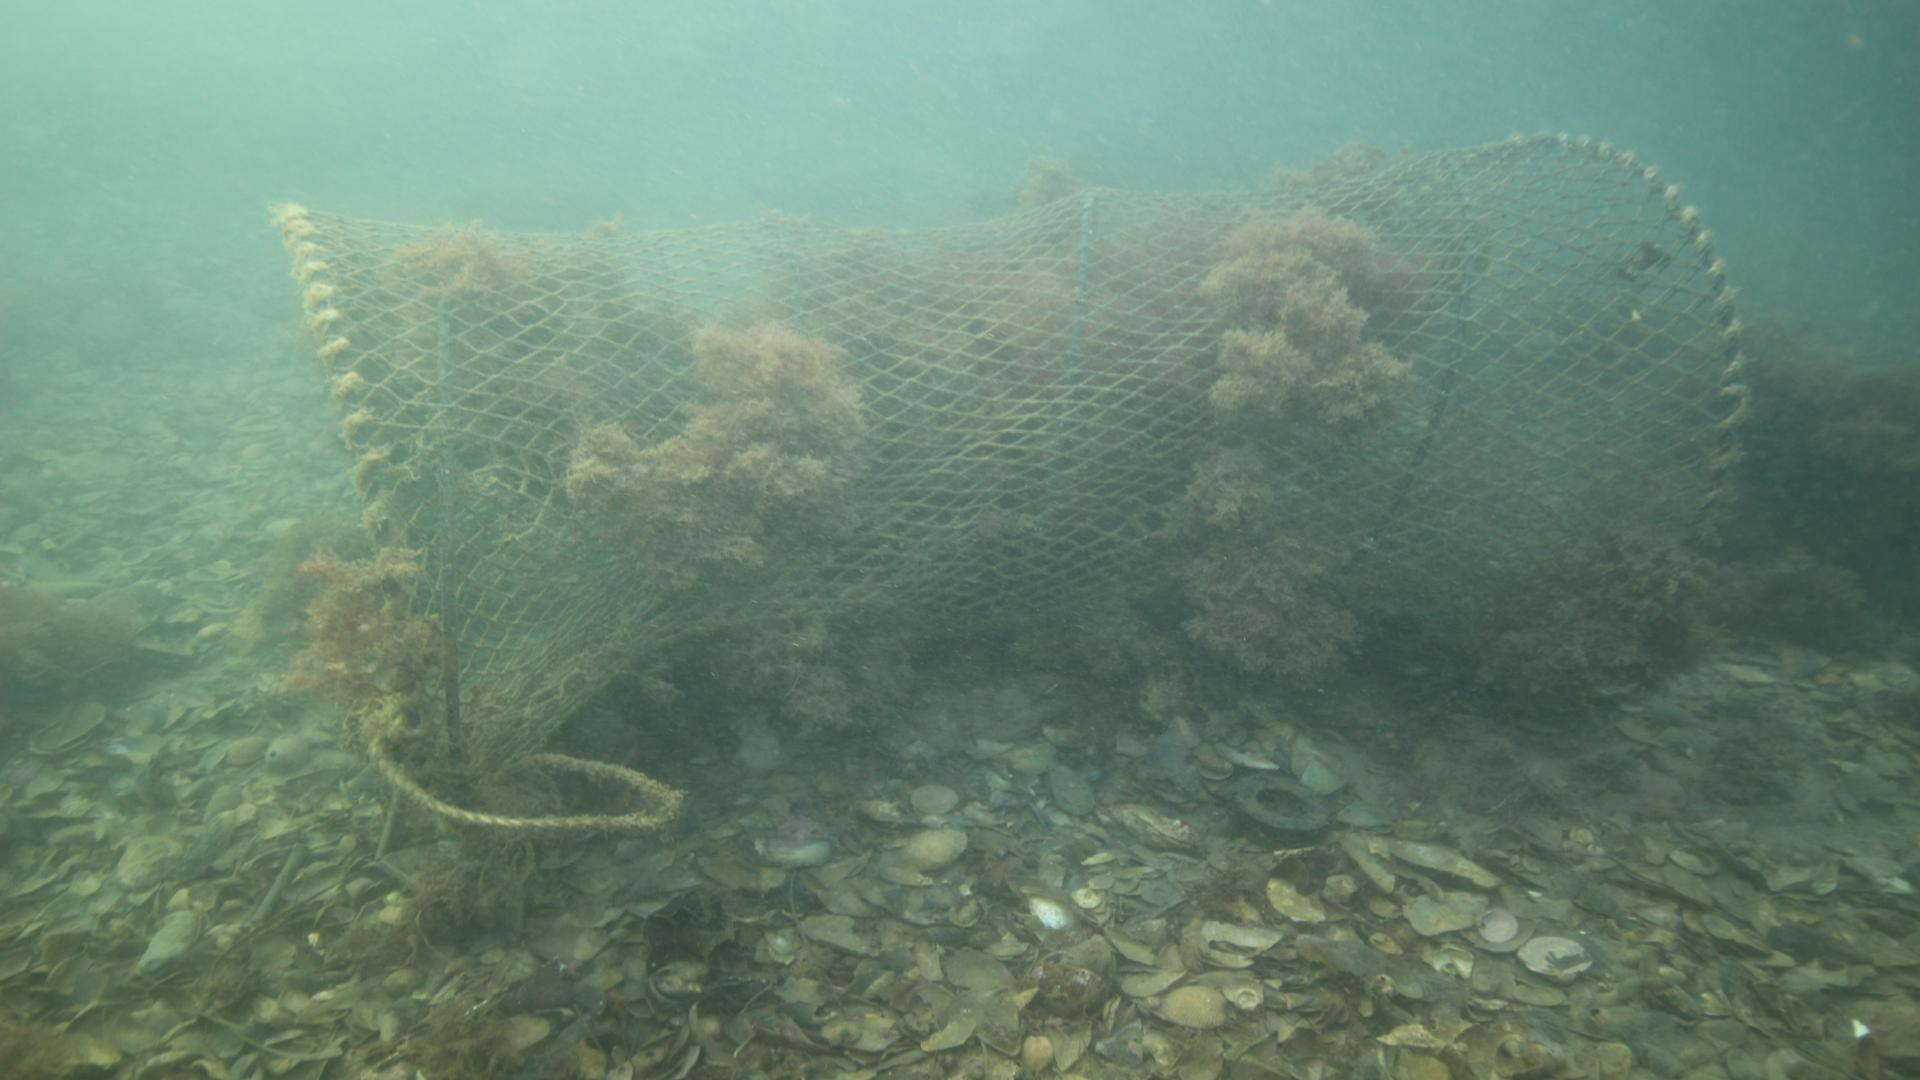rope: (367, 731, 684, 831)
spring fish trap: (265, 128, 1749, 829)
